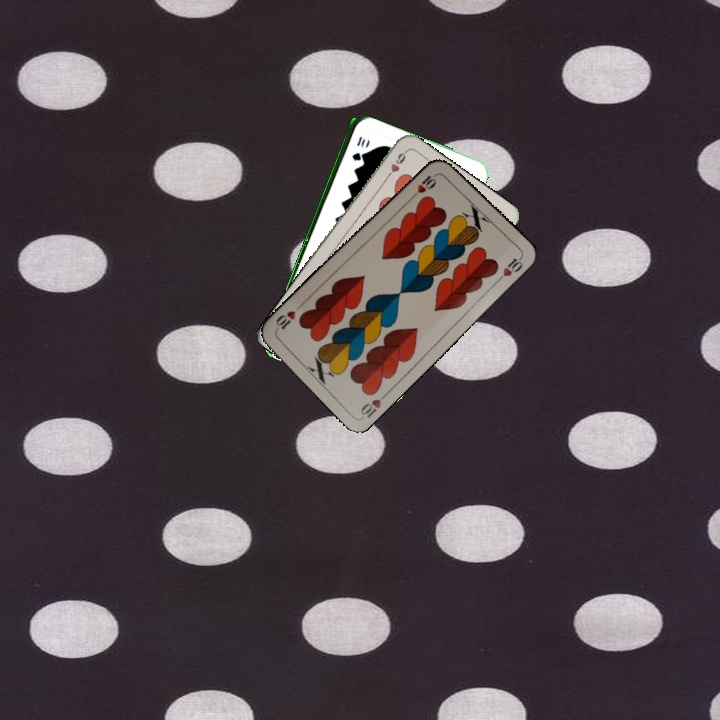G10: (348, 132, 368, 163)
H10: (357, 388, 391, 420), (407, 169, 440, 201)
H9: (381, 147, 409, 183)
